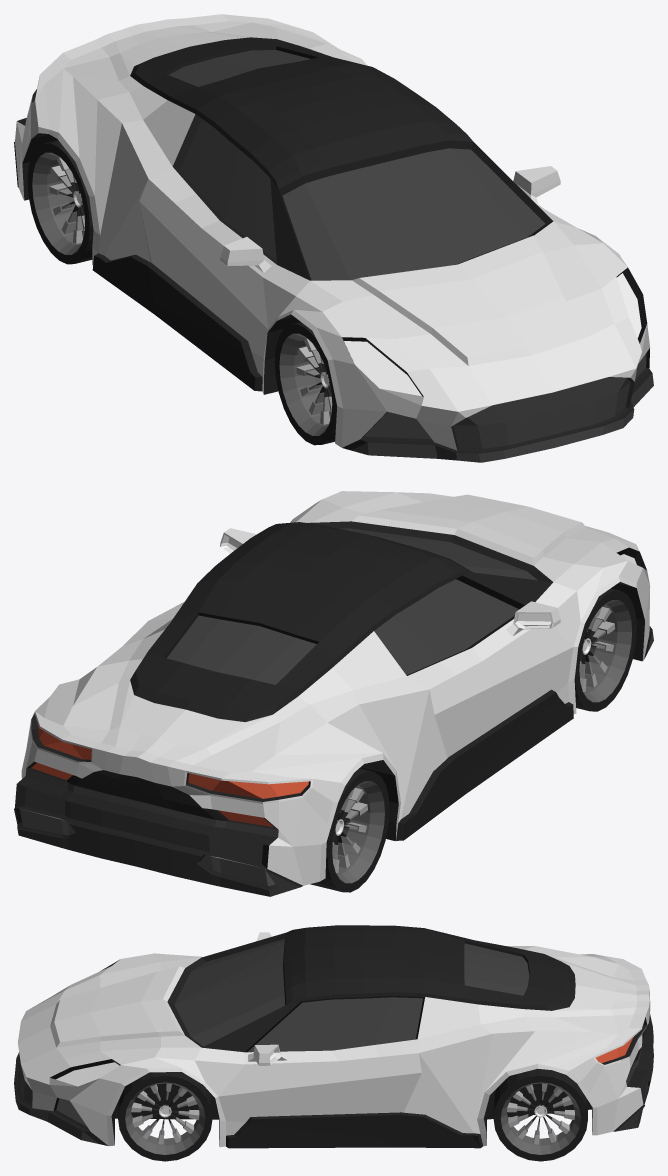
The model's file is maseratimc20.fbx.
3 renders of one model, top to bottom at view 1: azimuth 30°, elevation 25°; view 2: azimuth 150°, elevation 25°; view 3: azimuth 270°, elevation 25°, orthographic. The views are drawn at different scales.
Visible parts, largest first — view 1: WhiteBody, BackRight, FrontRight; view 2: WhiteBody, BackRight, FrontRight; view 3: WhiteBody, BackLeft, FrontLeft.
Boxes of the visible parts, box(x1,y1,x2,y2) form: WhiteBody: box(14, 14, 653, 462); BackRight: box(27, 140, 93, 264); FrontRight: box(274, 322, 337, 445); WhiteBody: box(14, 491, 653, 896); BackRight: box(310, 768, 389, 892); FrontRight: box(574, 588, 636, 711); WhiteBody: box(14, 925, 653, 1148); BackLeft: box(493, 1068, 587, 1161); FrontLeft: box(118, 1072, 212, 1161).
Bounding box in the file's own units: 2.13 × 4.66 × 1.28.
